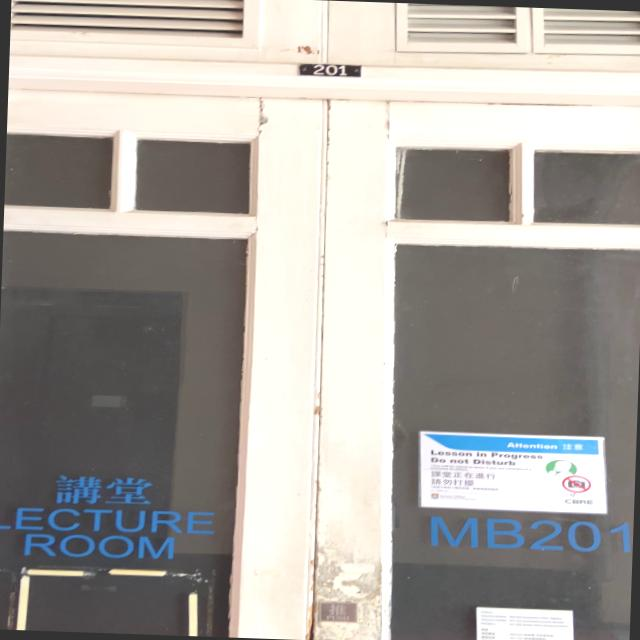room201: (293, 59, 365, 81)
room201Window: (416, 511, 633, 558)
